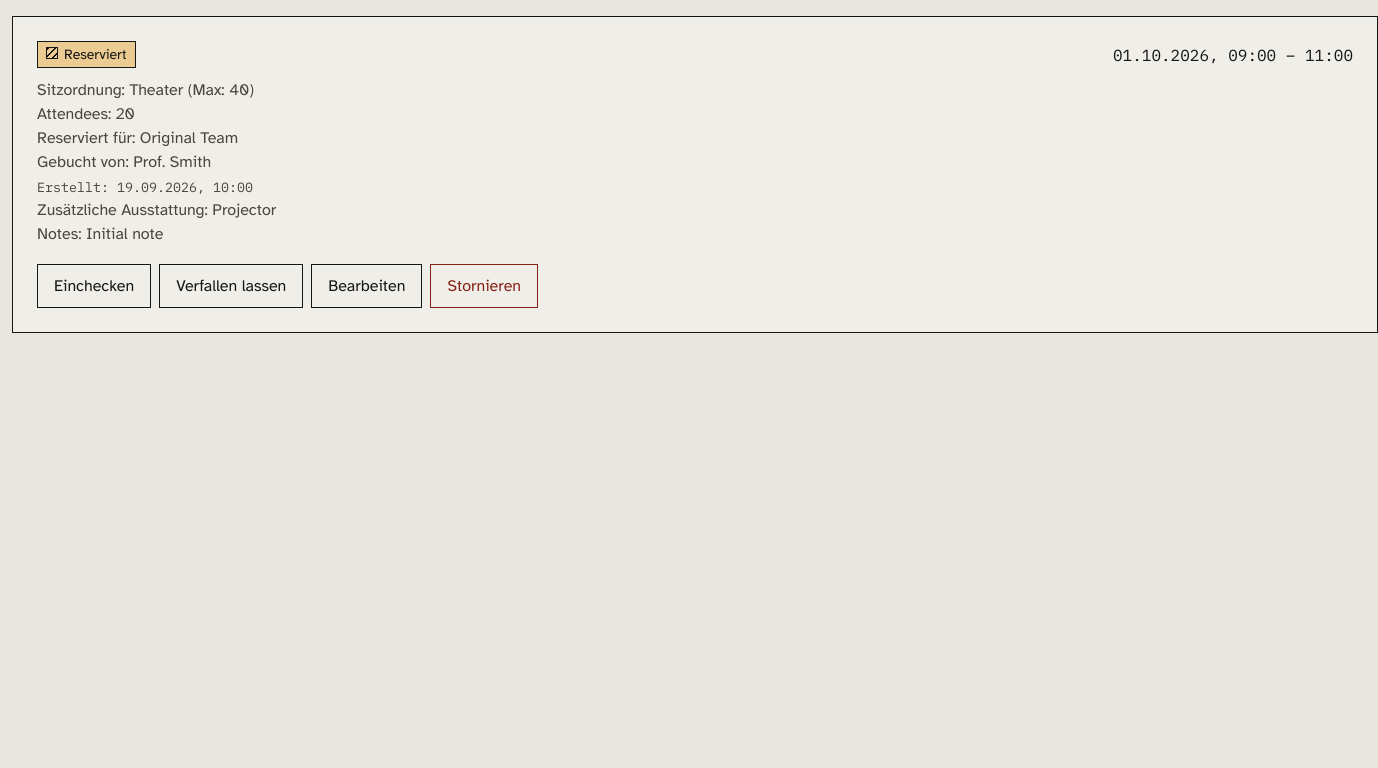
ReservationList › validates that reservedFor is mandatory and non-blank when editing
Click the button "Bearbeiten" at (367, 286), box [311,264,422,308]
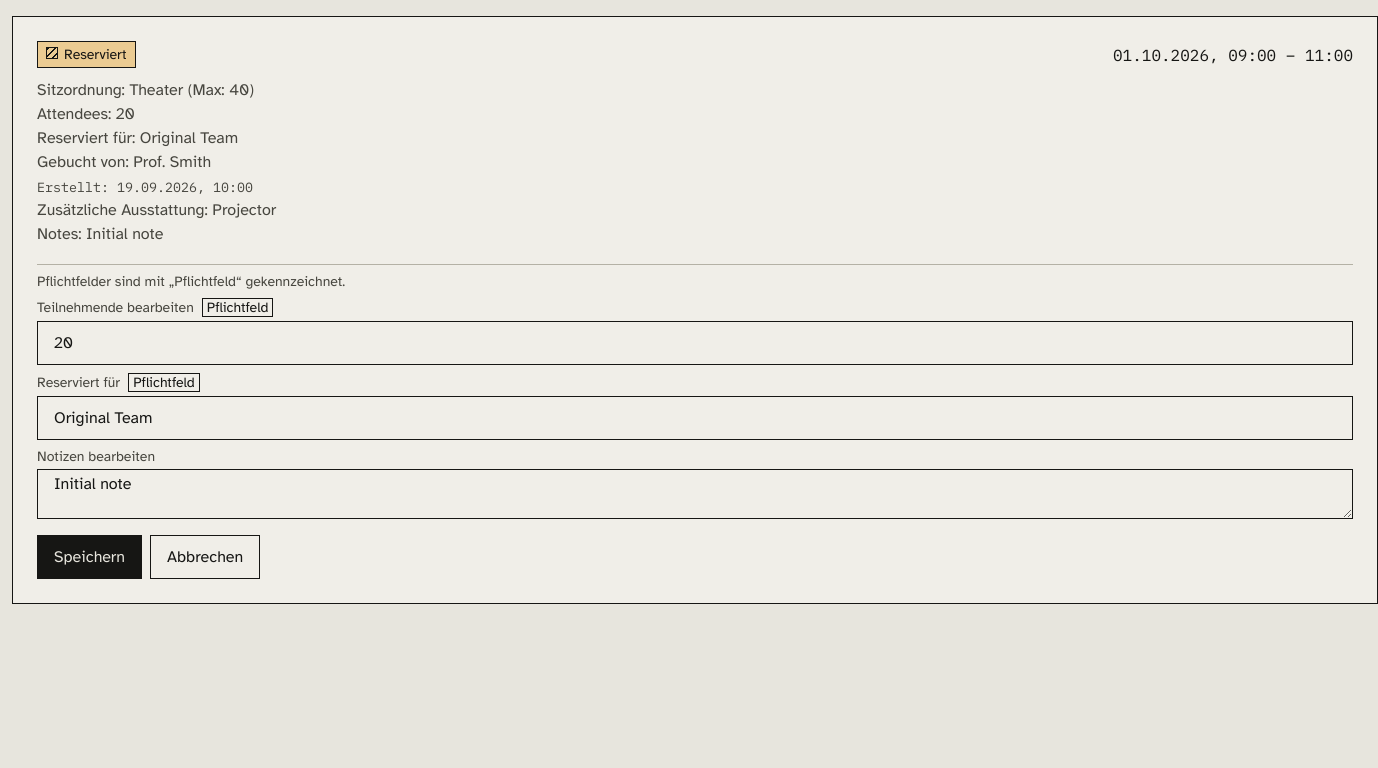
Clear the field labelled "Reserviert für" at (695, 418), box [37,396,1353,440]
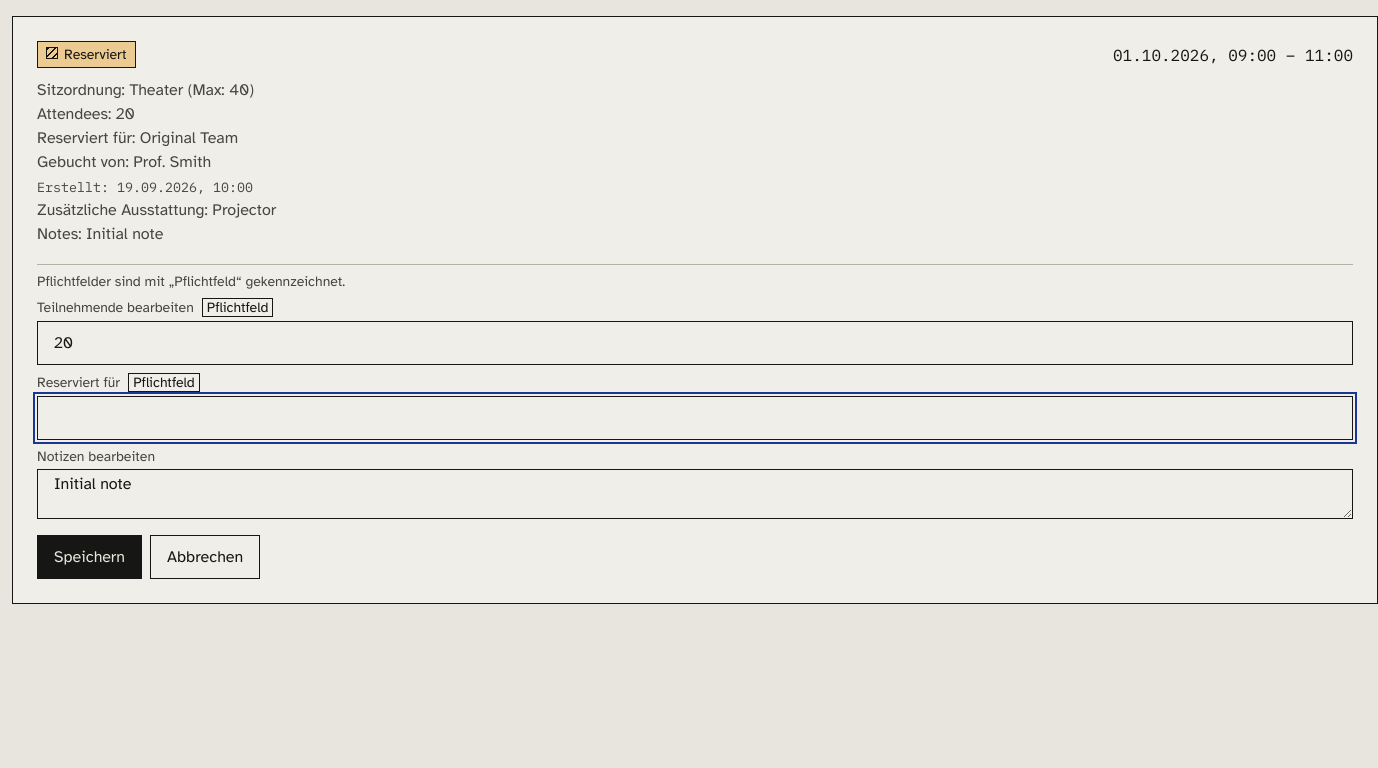
Click the button "Speichern" at (90, 557), box [37,535,142,579]
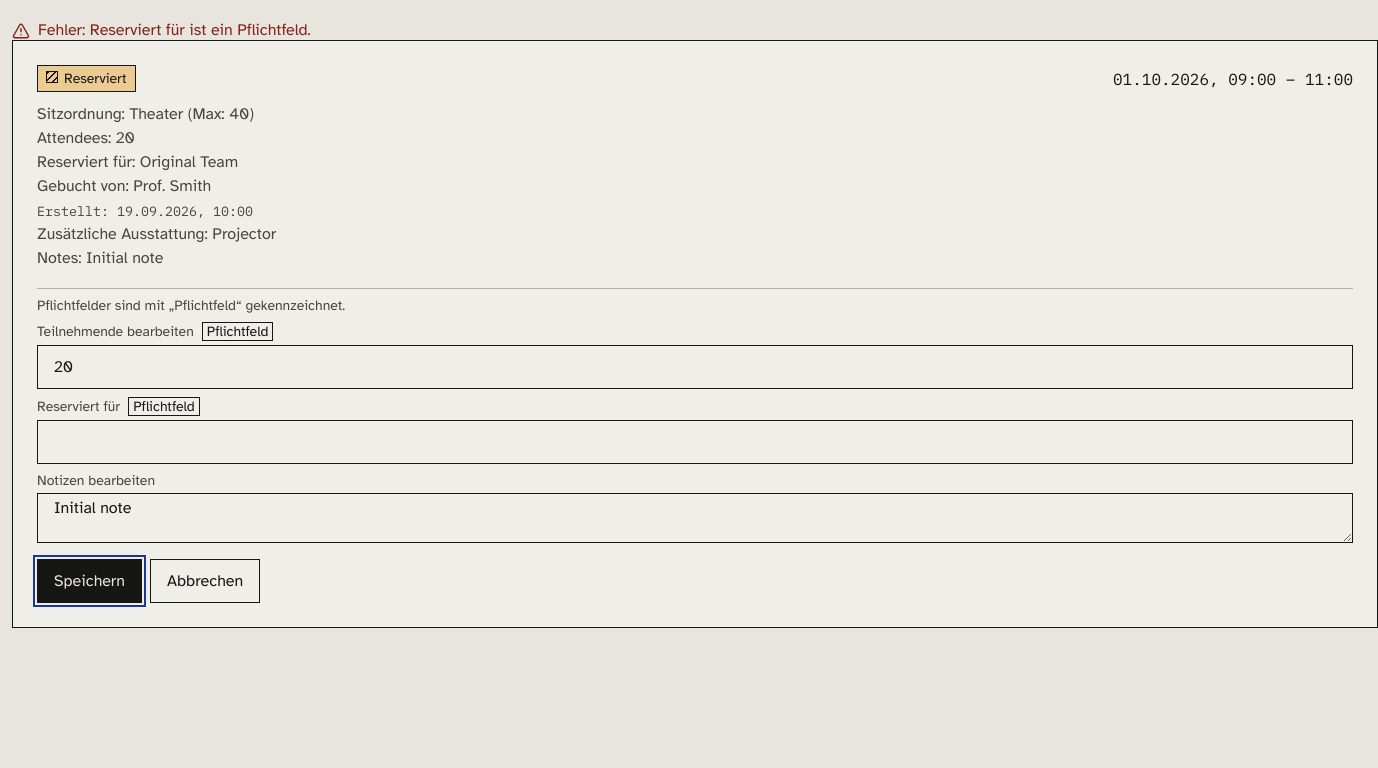
Check: the text "Fehler: Reserviert für ist ein Pflichtfeld." is shown, box [38,20,311,40]
